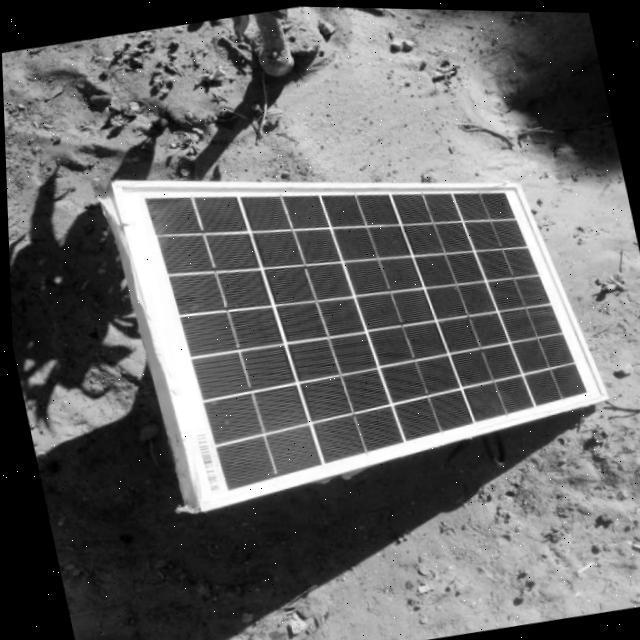Normal Solar Panel: (110, 105, 614, 520)
